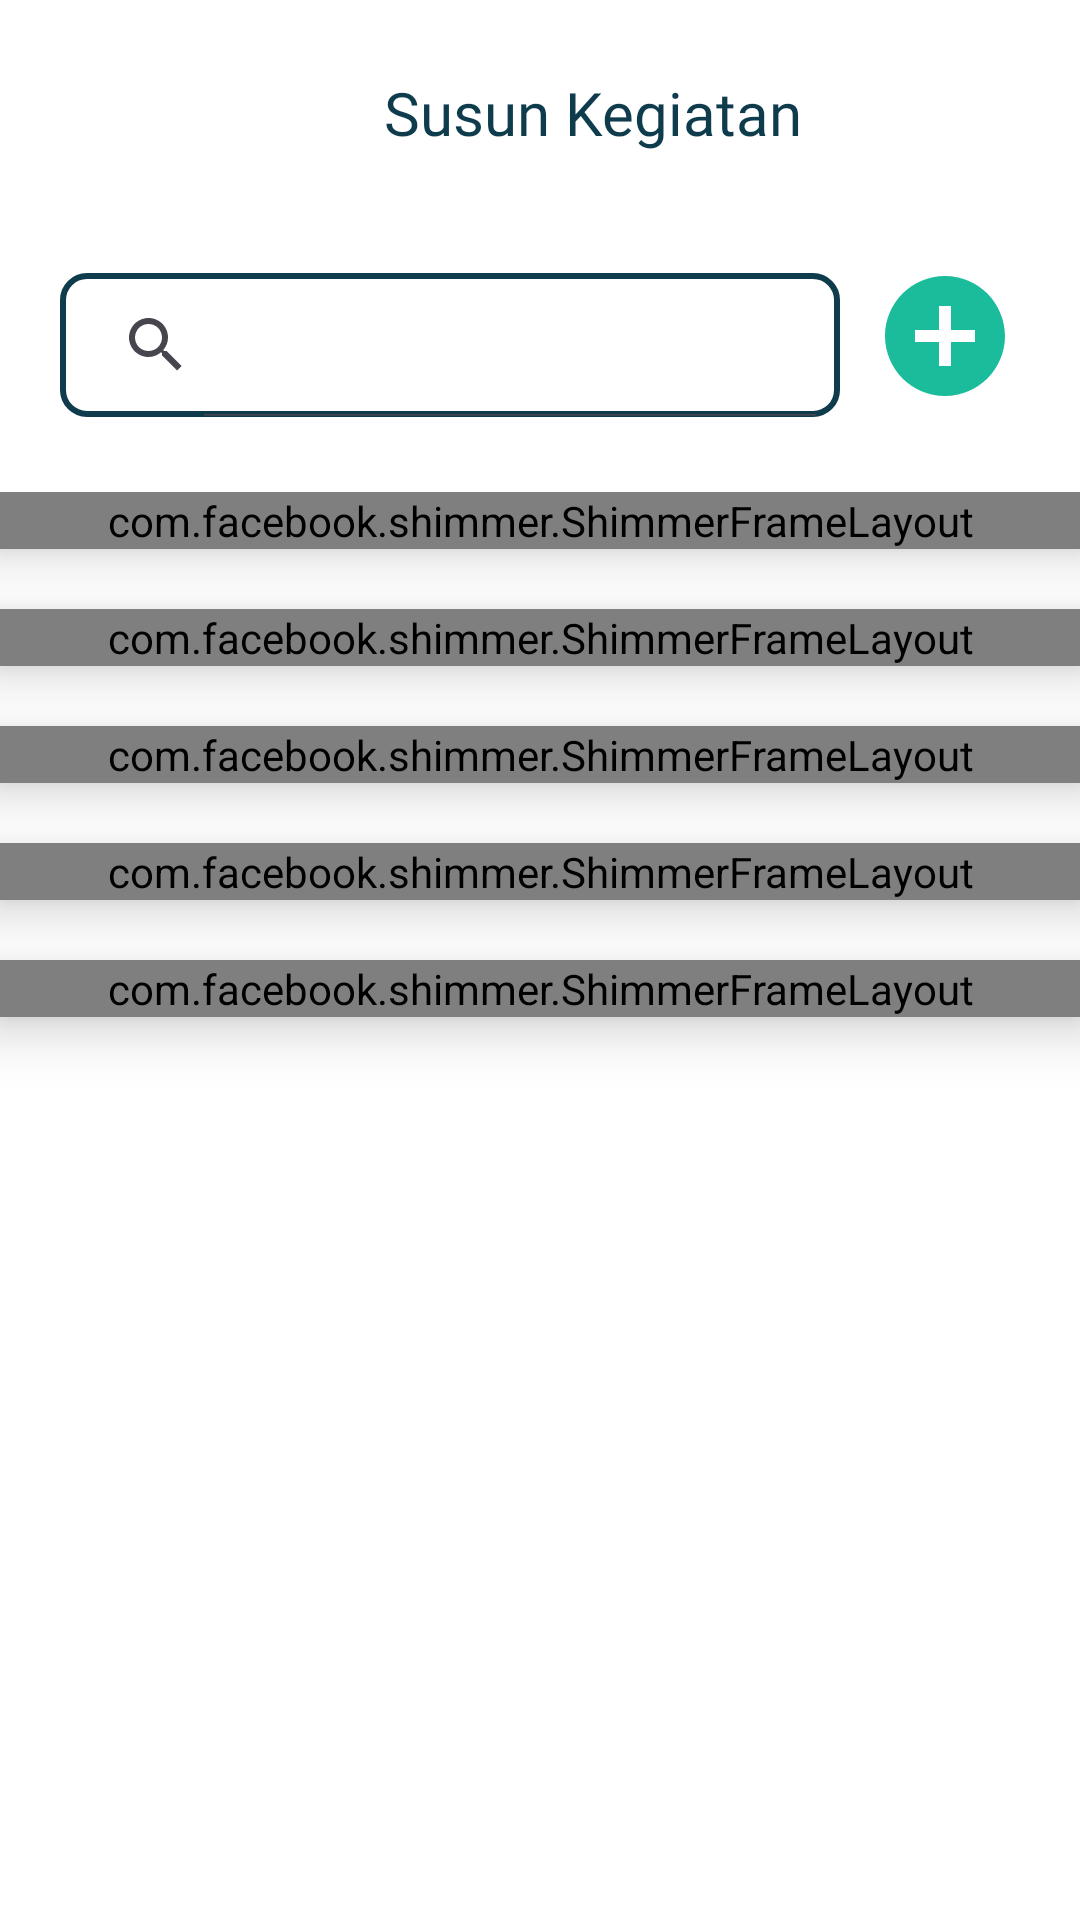

Icon click points for this 1080px×1920px phone screenshot, format [x,y]:
add kegiatan: [945,336]
